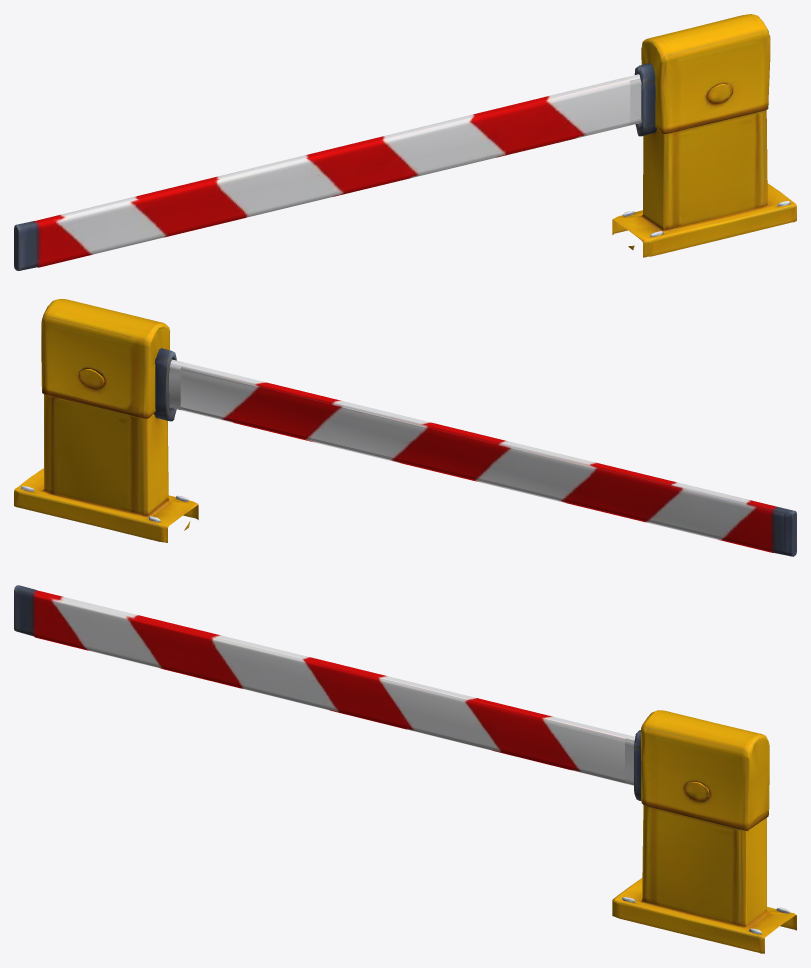
The model's file is barrier-arm.glb.
3 views of the same model, one above another, from view 1: azimuth 30°, elevation 25°; view 2: azimuth 150°, elevation 25°; view 3: azimuth 330°, elevation 25° (orthographic).
Visible parts, largest first — view 1: striped barrier arm, meshy-barrier-arm; view 2: meshy-barrier-arm, striped barrier arm; view 3: meshy-barrier-arm, striped barrier arm.
Boxes of the visible parts, <box> form: striped barrier arm: <box>14,77,630,270</box>; meshy-barrier-arm: <box>612,14,796,257</box>; meshy-barrier-arm: <box>14,299,198,542</box>; striped barrier arm: <box>180,362,796,556</box>; meshy-barrier-arm: <box>612,710,796,953</box>; striped barrier arm: <box>14,585,628,783</box>.
Size of the model in its own units: 3.99 by 0.9985 by 0.3.
1 material, 1 textured.
